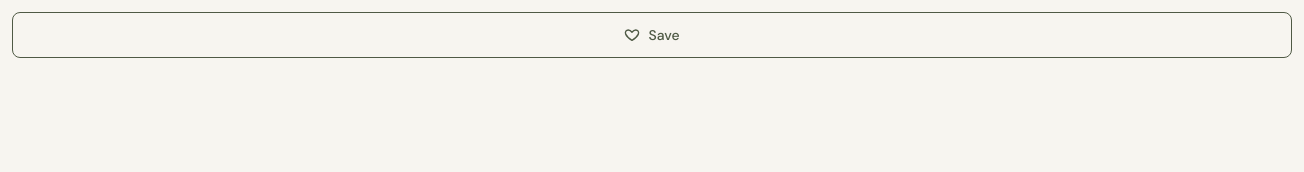
Save: if another tab saved it first, shows the message and marks it saved
Click the button with aria-label "Save Warm Kitchen to shortlist" at (652, 35), box [12, 12, 1292, 58]
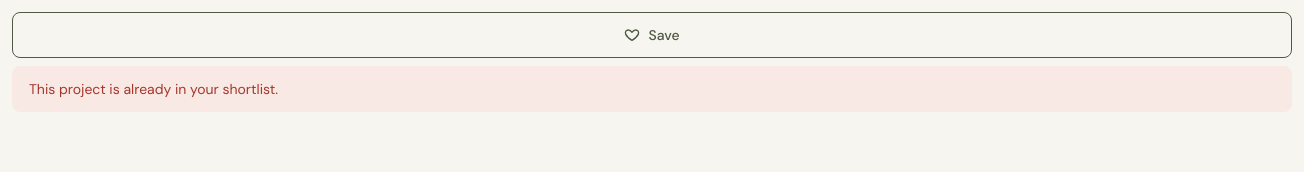
Expected: the message reads "This project is already in your shortlist.", [29, 80, 278, 98]
